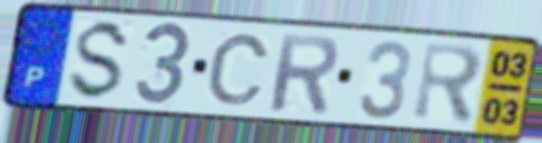3: (132, 18, 193, 111), (358, 38, 414, 121)
C: (204, 31, 273, 107)
R: (410, 39, 487, 128), (267, 31, 342, 116)
S: (64, 17, 136, 104)
